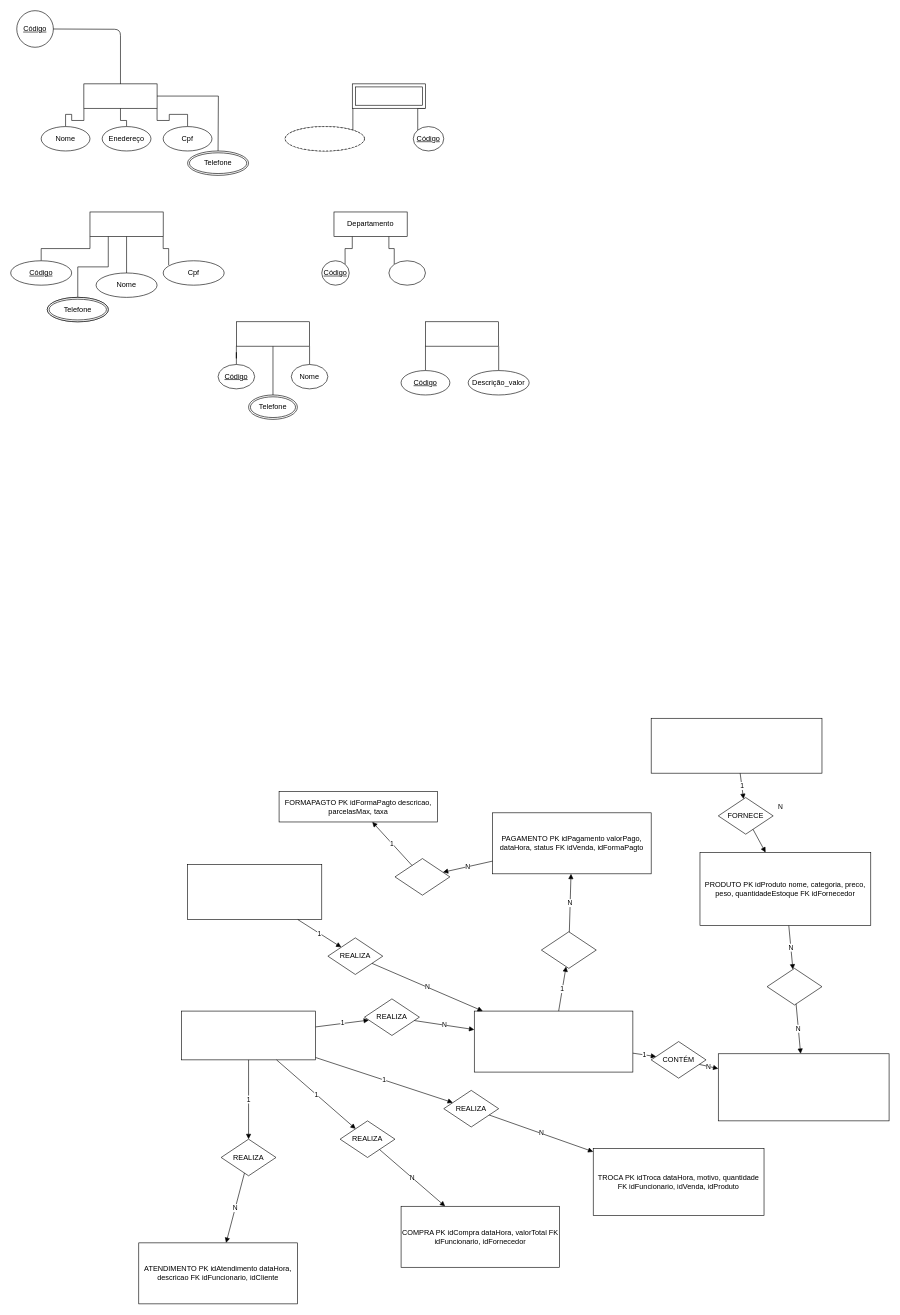
Some shapes in this 900 by 1315 pixel diagram are drawn without their labels. Each missing label, with the centre of its shape:
"APARECE" belongs at point (794, 986).
"Cliente" belongs at point (120, 95).
"CLIENTE PK idCliente nome, cpf, telefone, email" belongs at point (254, 892).
"Compra" belongs at point (388, 95).
"Descrição" belongs at point (406, 272).
"Fornecedor" belongs at point (273, 333).
"FORNECEDOR PK idFornecedor razaoSocial, cnpj, telefone, email" belongs at point (736, 745).
"Funcionario" belongs at point (126, 223).
"FUNCIONÁRIO PK idFuncionario nome, cargo" belongs at point (248, 1035).
"GERA" belongs at point (568, 949).
"ITEMVENDA PK idItem quantidade, precoUnitario, desconto FK idVenda, idProduto" belongs at point (803, 1087).
"Produto" belongs at point (462, 333).
"Quantidades_produtos" belongs at point (324, 138).
"USA" belongs at point (422, 876).
"VENDA PK idVenda dataHora, valorTotal FK idCliente, idFuncionario" belongs at point (553, 1041).
